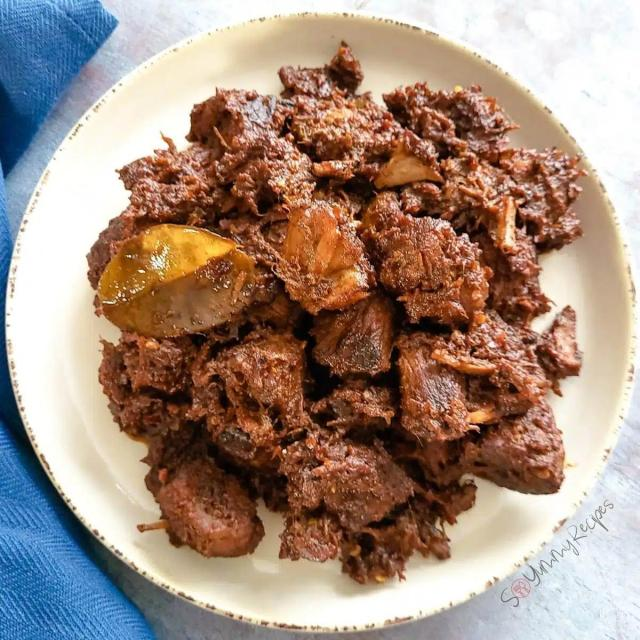Rendang: (54, 58, 620, 614)
